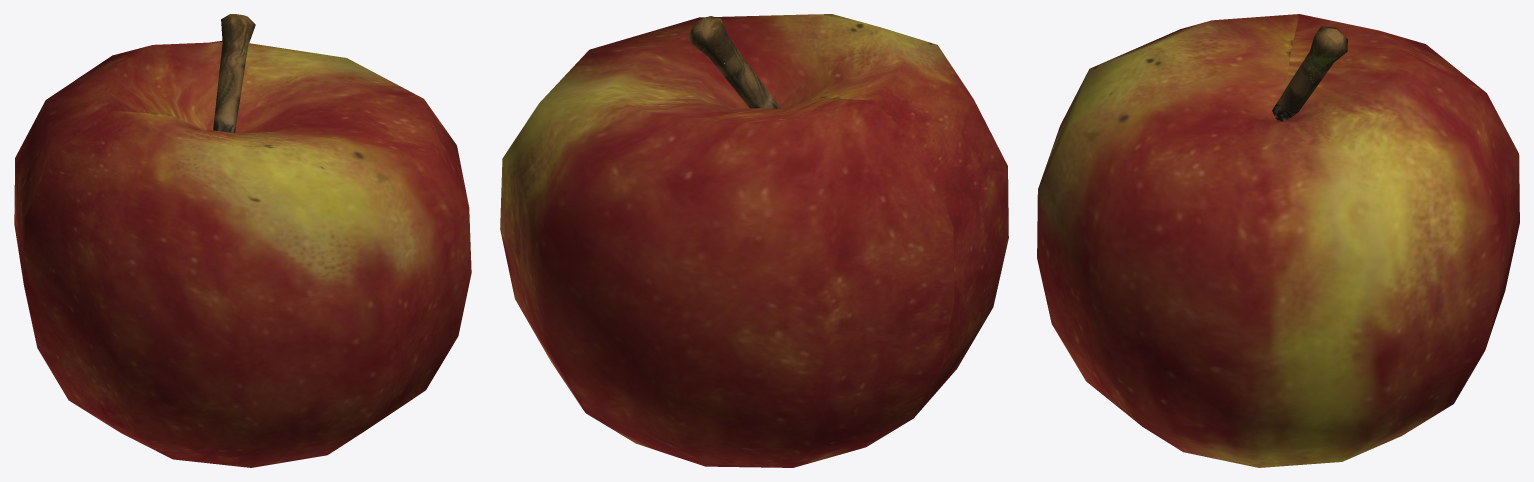
Rendered from Apple.fbx.
3 renders of one model, left to right at view 1: azimuth 30°, elevation 25°; view 2: azimuth 150°, elevation 25°; view 3: azimuth 270°, elevation 25°, orthographic. The views are drawn at different scales.
Parts seen in each view (by area): view 1: Apple_body_, Apple_stick; view 2: Apple_body_, Apple_stick; view 3: Apple_body_, Apple_stick.
Part boxes in pixels (bbox=[...]): Apple_body_: bbox=[14, 40, 471, 467]; Apple_stick: bbox=[213, 14, 255, 132]; Apple_body_: bbox=[500, 14, 1008, 467]; Apple_stick: bbox=[688, 16, 780, 108]; Apple_body_: bbox=[1037, 14, 1519, 467]; Apple_stick: bbox=[1272, 26, 1347, 121].
Bounding box in the file's own units: 12.94 × 11.73 × 12.94.
2 materials, 2 textured.
